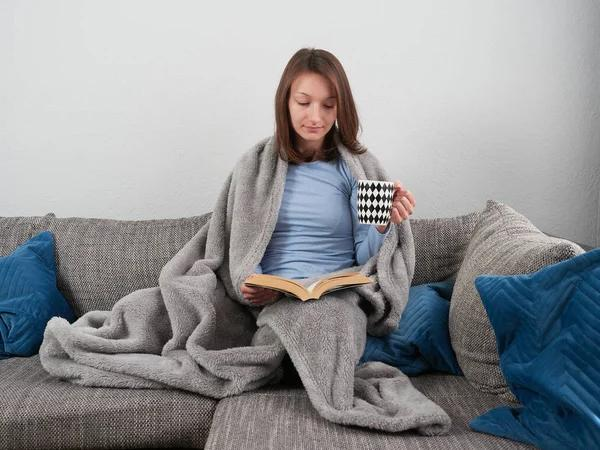blanket: (38, 131, 451, 439)
long sleeve shirt: (251, 148, 389, 287)
